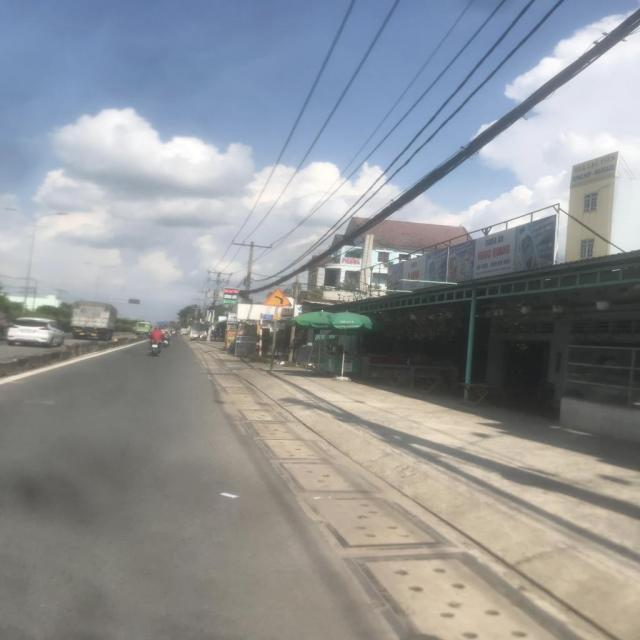cho_ngoat_nguy_hiem_ben_trai: (261, 287, 292, 308)
